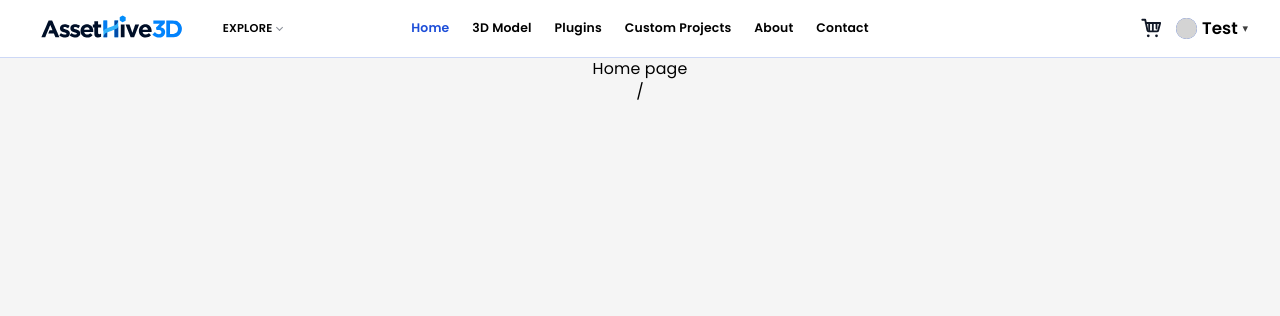
Test: Navbar › shows user menu with Dashboard, Profile, and Sign out when logged in
Expected: the text "Test" is shown, [1202,20,1238,37]
Expected: the button named "cart" is shown, [1136,12,1167,44]
Click the button "Test ▾": (1212, 28) [1176,12,1248,44]
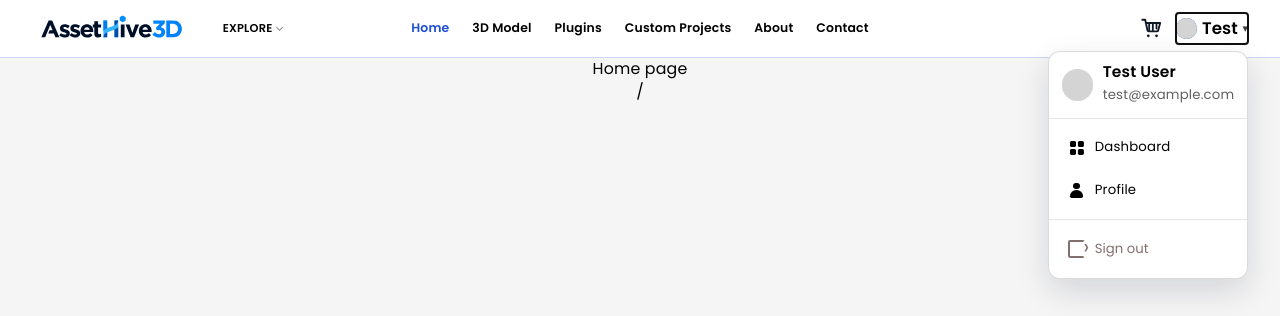
Now the text "Test User" is shown, box [1103,61,1176,82]
Now the text "test@example.com" is shown, box [1103,84,1234,107]
Now the menu item "Dashboard" is shown, box [1068,137,1170,157]
